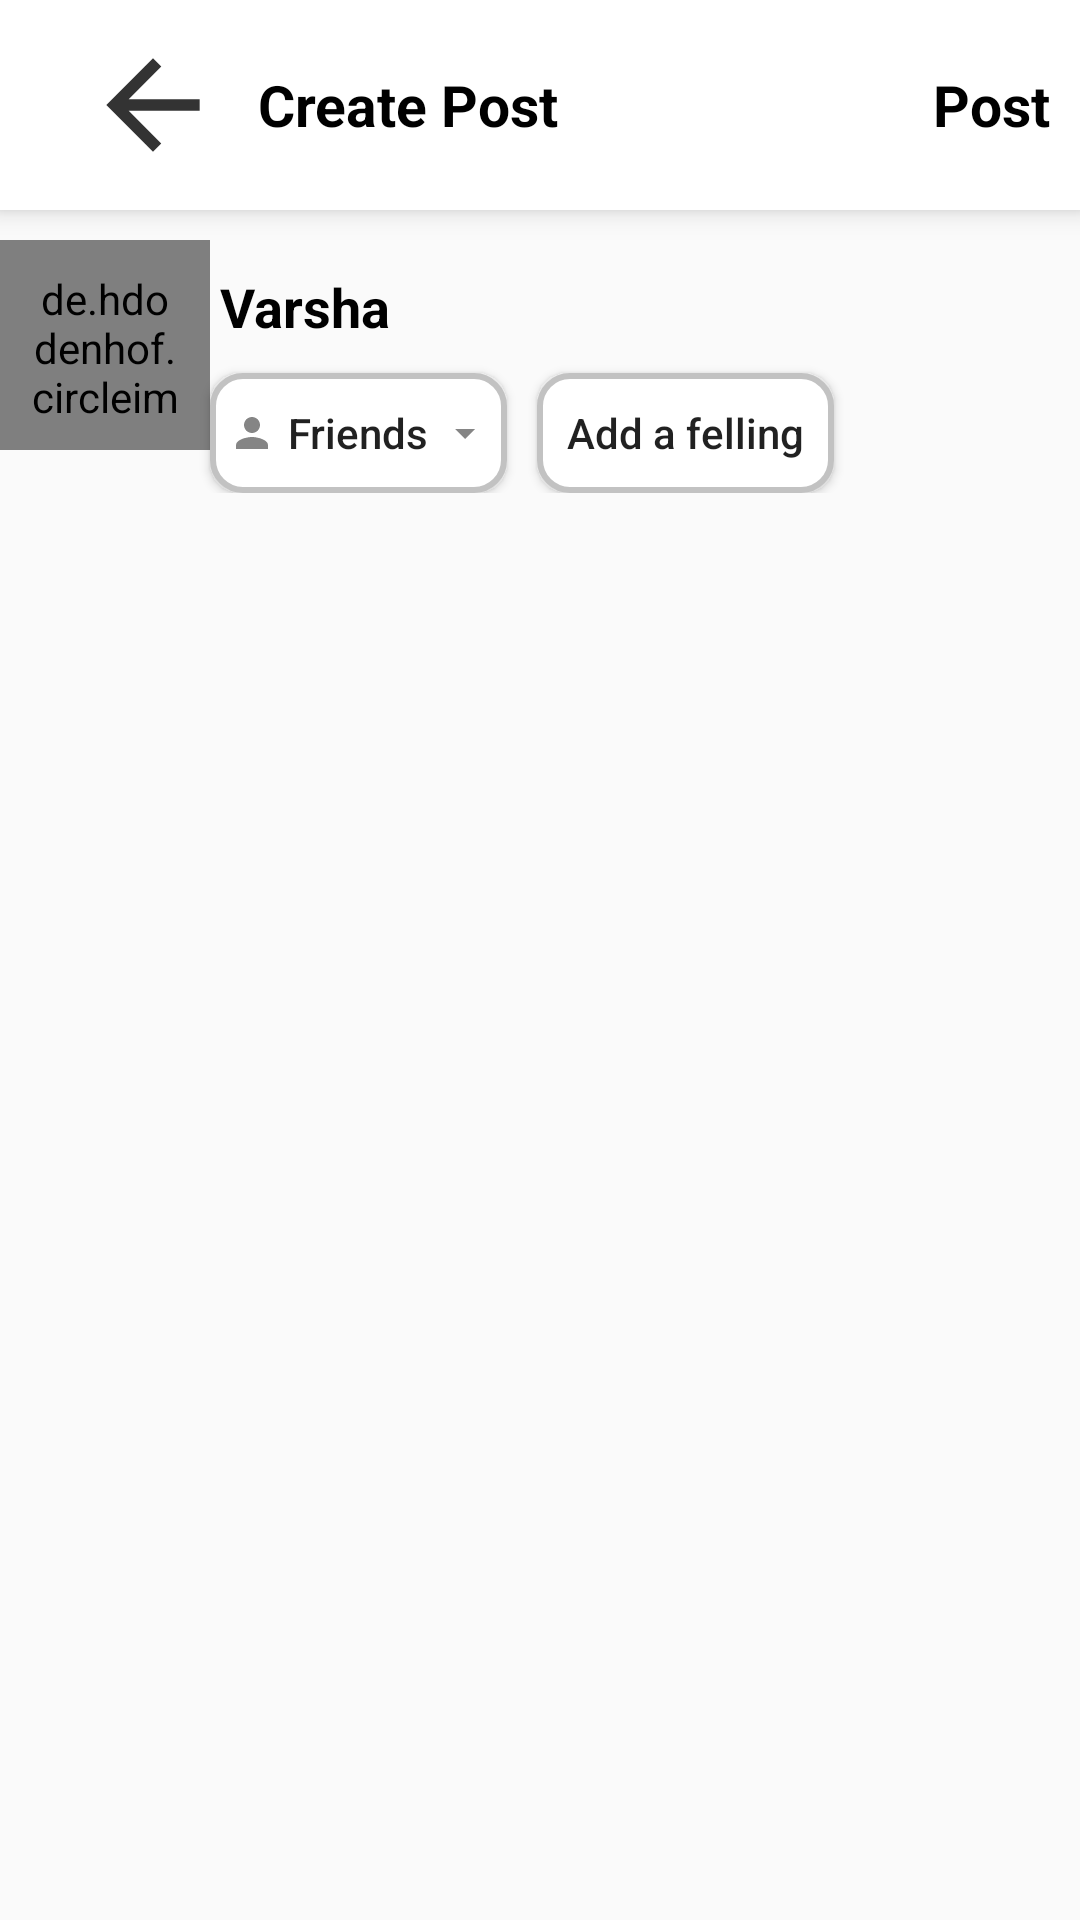

Screen size 1080x1920. Icon name, then its box in pixels as region(x1, y1, x2, y2):
back: region(106, 58, 200, 152)
